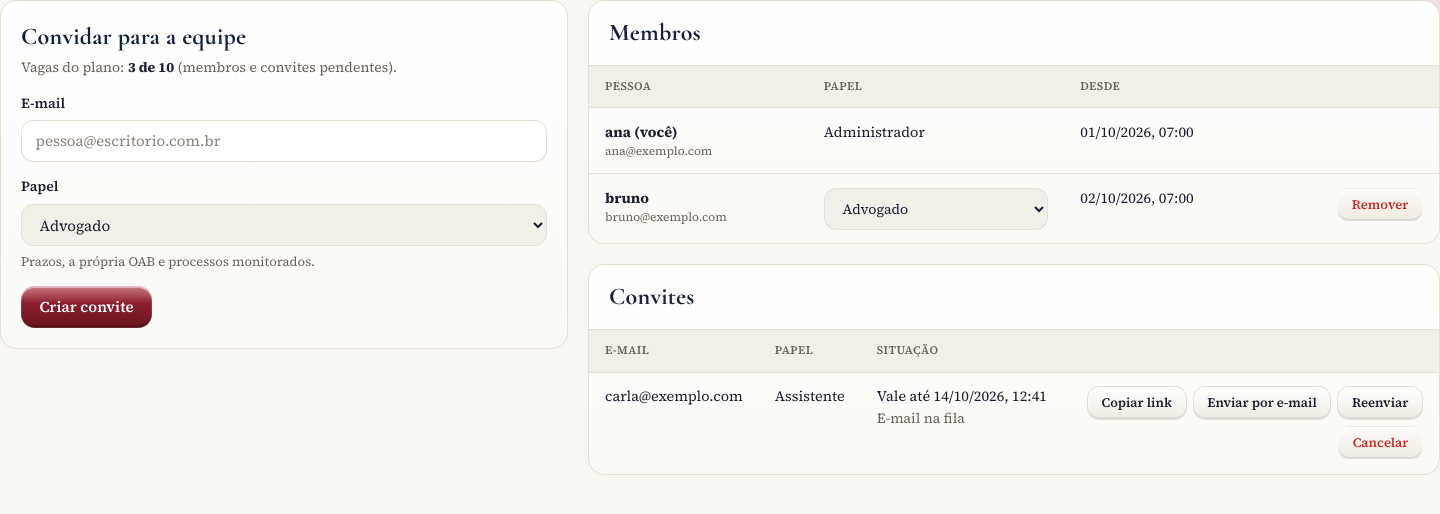
Test: tela Equipe › cria o convite e oferece copiar o link ou enviar por e-mail
This screenshot has width=1440, height=514.
Type "Davi@Exemplo.com" into the field labelled "E-mail". click: (284, 141)
box: left=21, top=120, right=547, bottom=162
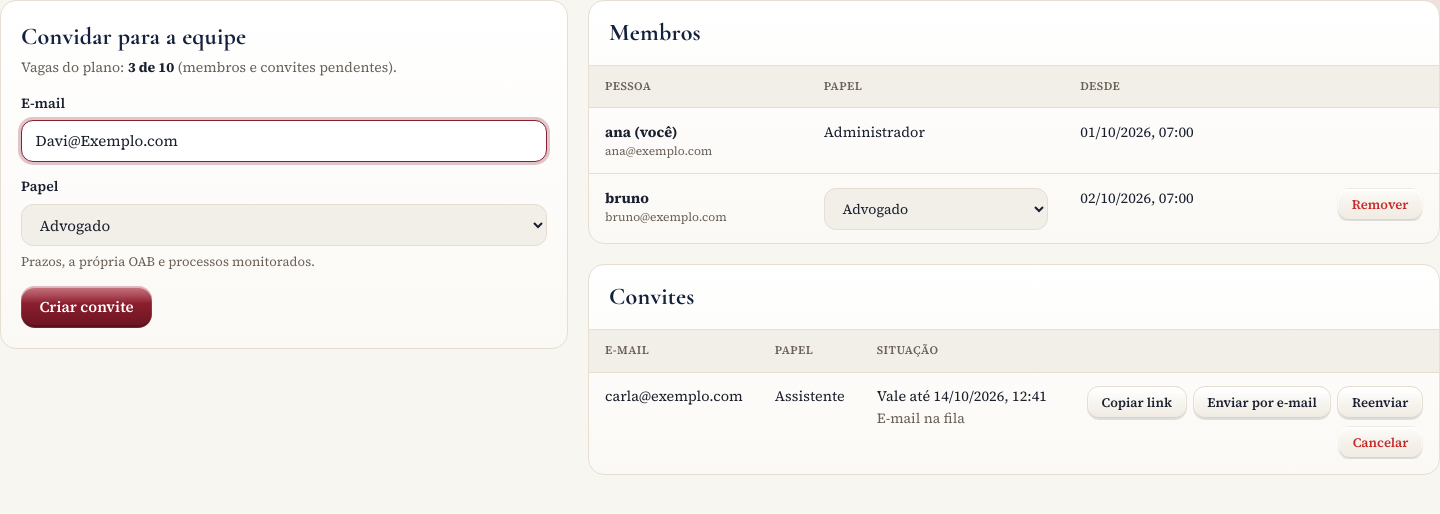
Select "Leitura" in the dropdown labelled "Papel". click: (284, 225)
box: left=21, top=204, right=547, bottom=246
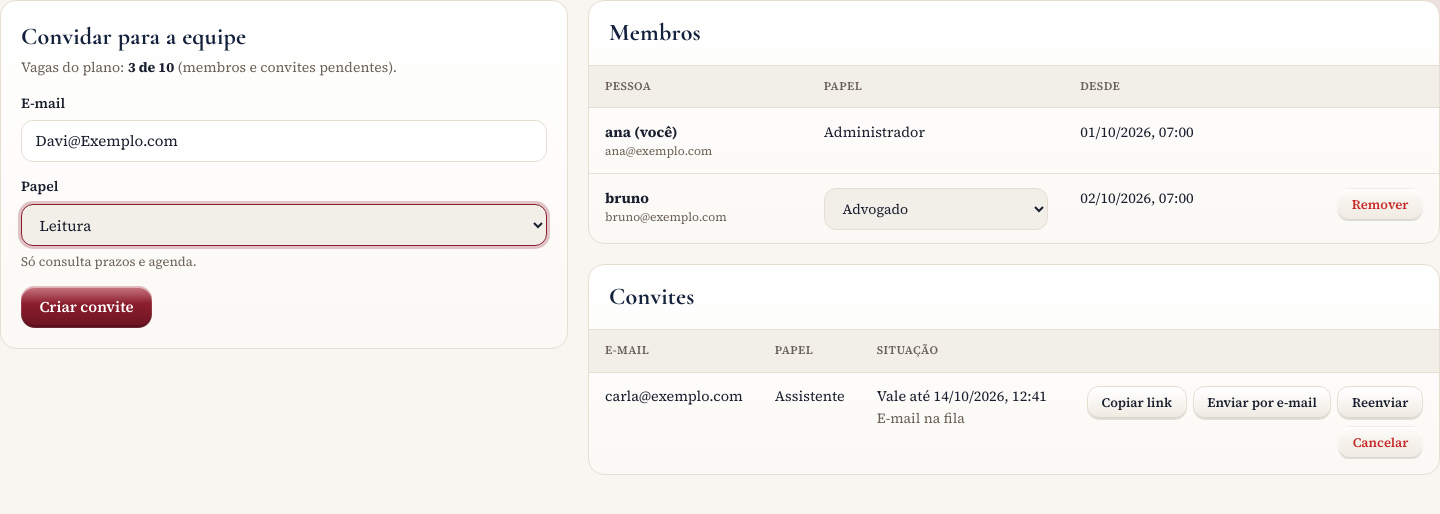
Click the button "Criar convite". click: (87, 307)
box: left=21, top=286, right=152, bottom=328
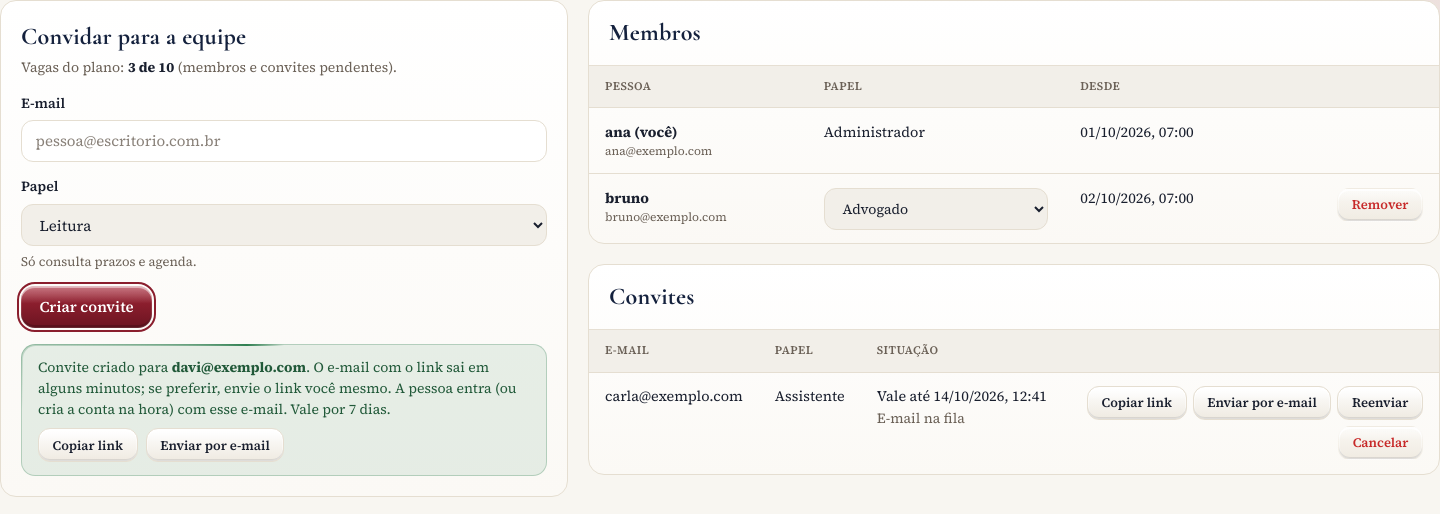
Expected: the text "Convite criado para" shows "davi@exemplo.com", left=172, top=357, right=306, bottom=377
